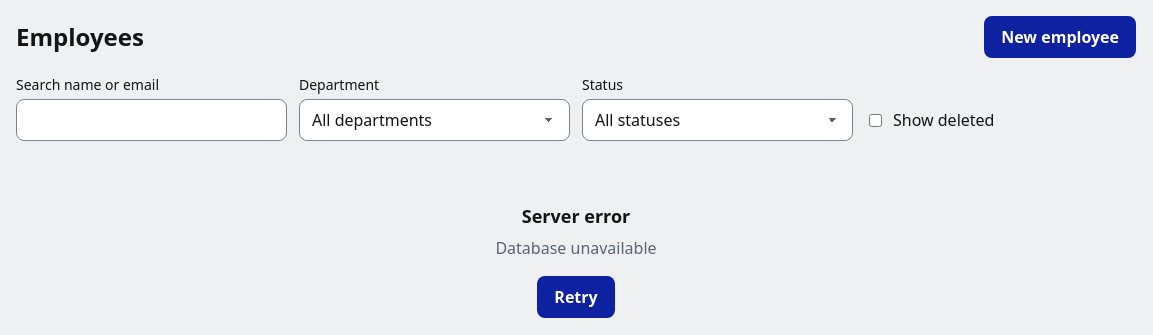
Test: EmployeesPage - errors › shows an inline error with Retry, keeps filters usable, and Retry refetches
The image size is (1153, 335).
expect the field labelled "Search name or email" is enabled: met, box [16,99,287,141]
expect the dropdown labelled "Status" is enabled: met, box [582,99,853,141]
Click the button "Retry" at {"x": 576, "y": 296}, box [537,276,615,318]
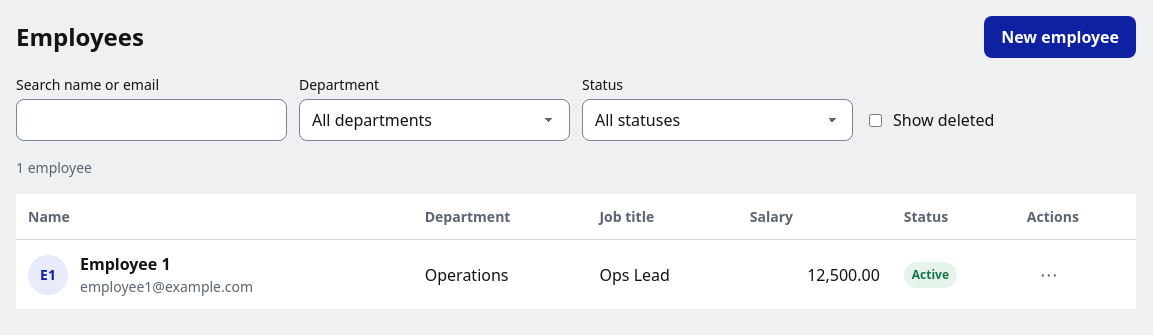
expect the table is shown: met, box [16,194,1136,309]
